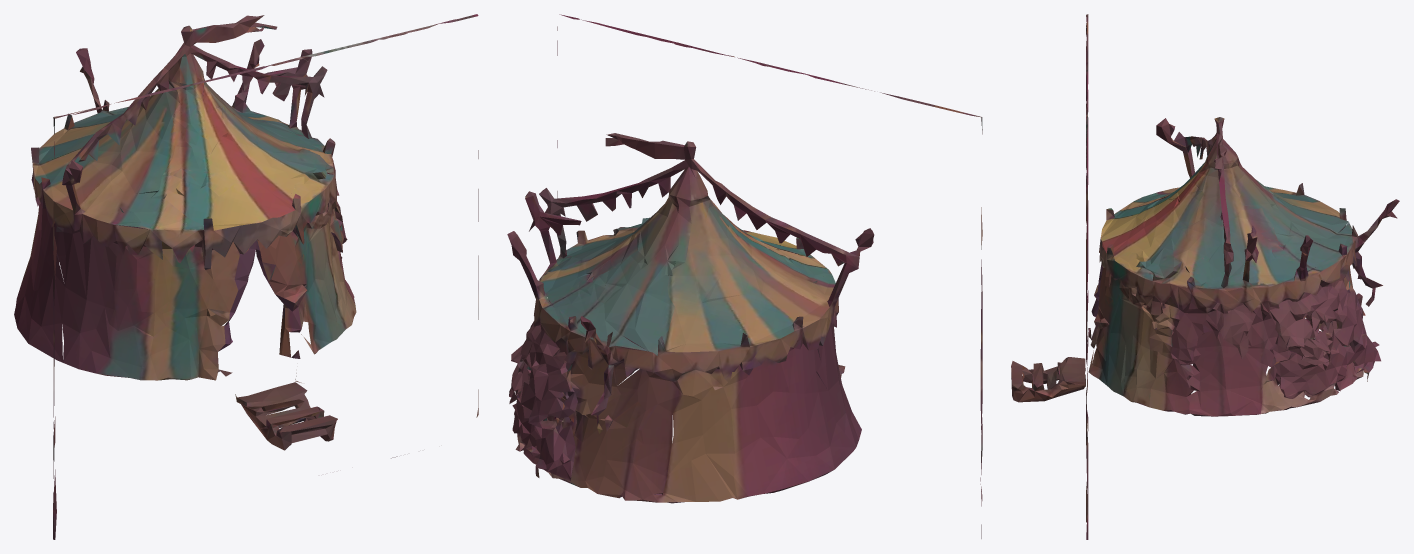
File: chief_tent.glb
The picture shows the model from 3 angles, left to right: view 1: azimuth 30°, elevation 25°; view 2: azimuth 150°, elevation 25°; view 3: azimuth 270°, elevation 25°; orthographic projection. The views are drawn at different scales.
Parts seen in each view (by area): view 1: geometry_0; view 2: geometry_0; view 3: geometry_0.
Boxes of the visible parts, x1,y1,x2,y2 form: geometry_0: (14, 14, 478, 539); geometry_0: (507, 14, 982, 538); geometry_0: (1011, 14, 1399, 539).
Bounding box in the file's own units: 5 × 4.75 × 4.74.
Materials: 1 (1 with a texture image).
